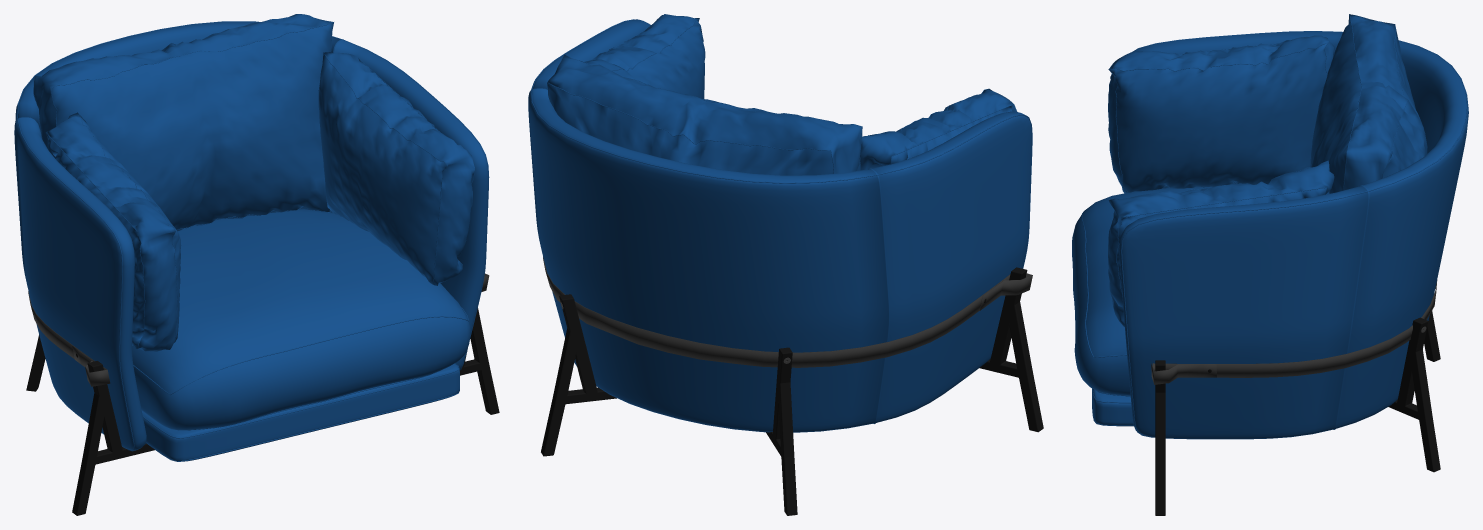
Rendered from obj_cardle_armchair_ad397c.glb.
3 renders of one model, left to right at view 1: azimuth 30°, elevation 25°; view 2: azimuth 150°, elevation 25°; view 3: azimuth 270°, elevation 25°, orthographic. The views are drawn at different scales.
Parts seen in each view (by area): view 1: obj_cardle_armchair_ad397c; view 2: obj_cardle_armchair_ad397c; view 3: obj_cardle_armchair_ad397c.
Part boxes in pixels (box(x1,y1,x2,y2)): obj_cardle_armchair_ad397c: box(14, 14, 499, 515); obj_cardle_armchair_ad397c: box(528, 14, 1043, 515); obj_cardle_armchair_ad397c: box(1072, 14, 1468, 515).
Size of the model in its own units: 1.09 by 0.85 by 0.9028.
